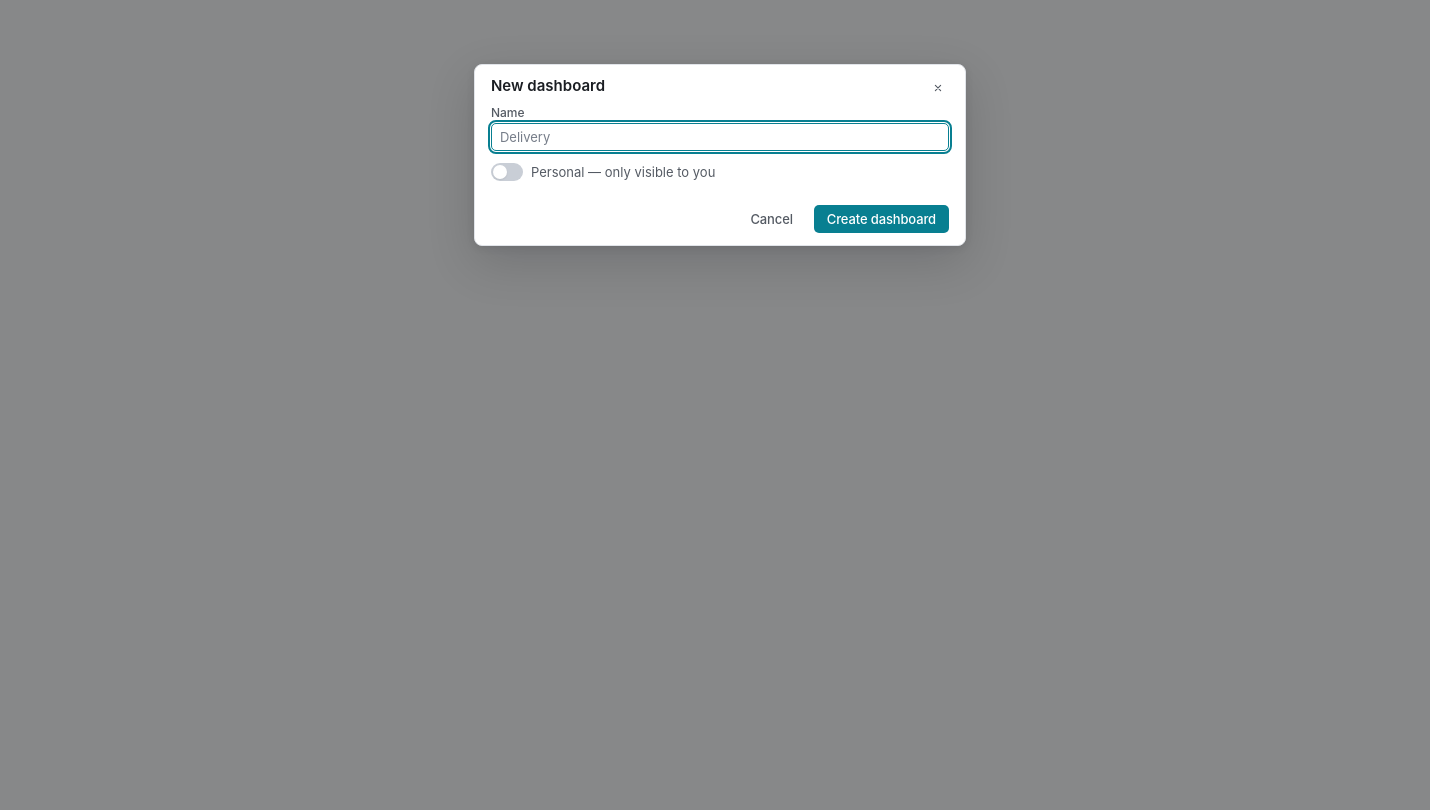
Scenario: discarding a new dashboard › asks when only the personal switch was moved
Click the switch at (507, 172), box [491,163,523,181]
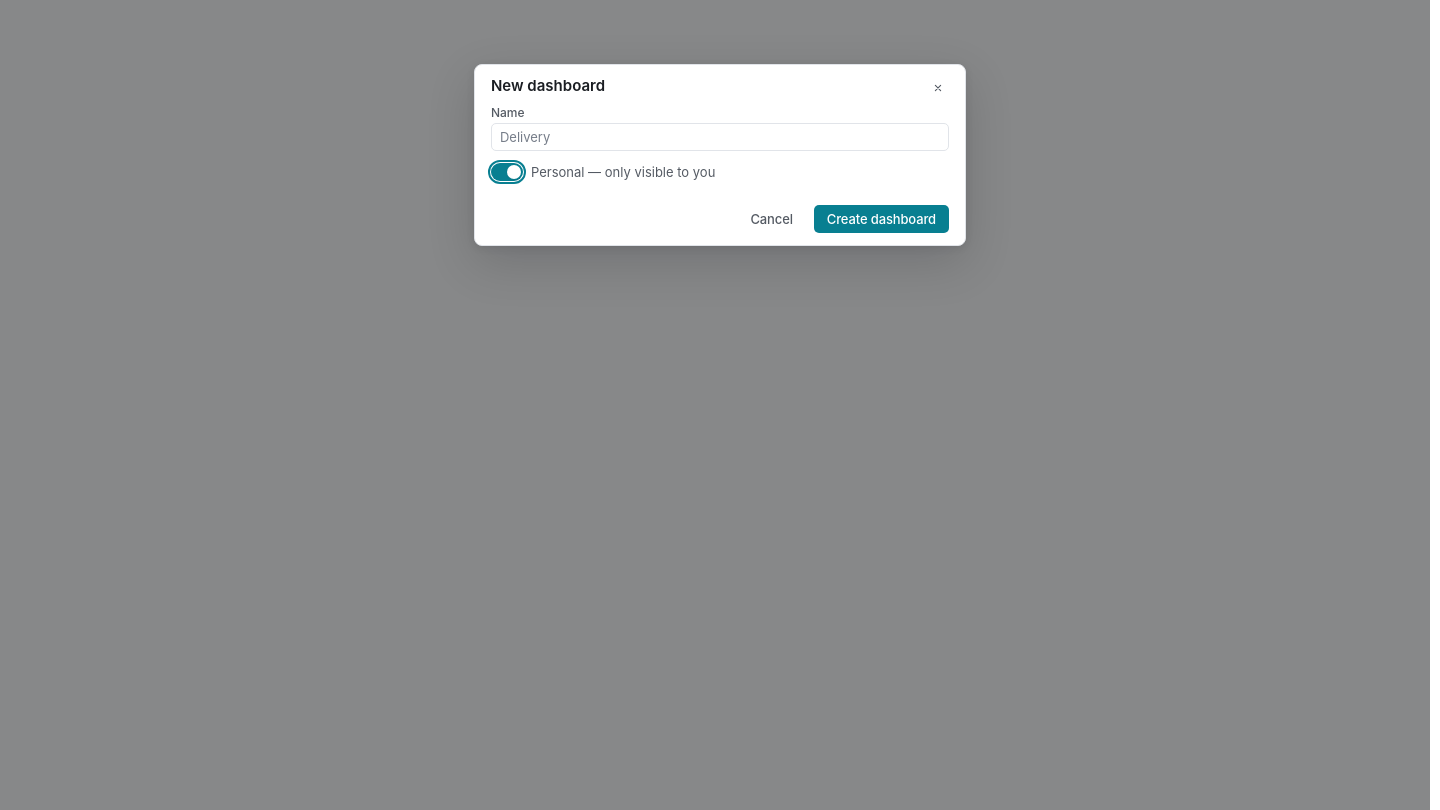
Press Escape
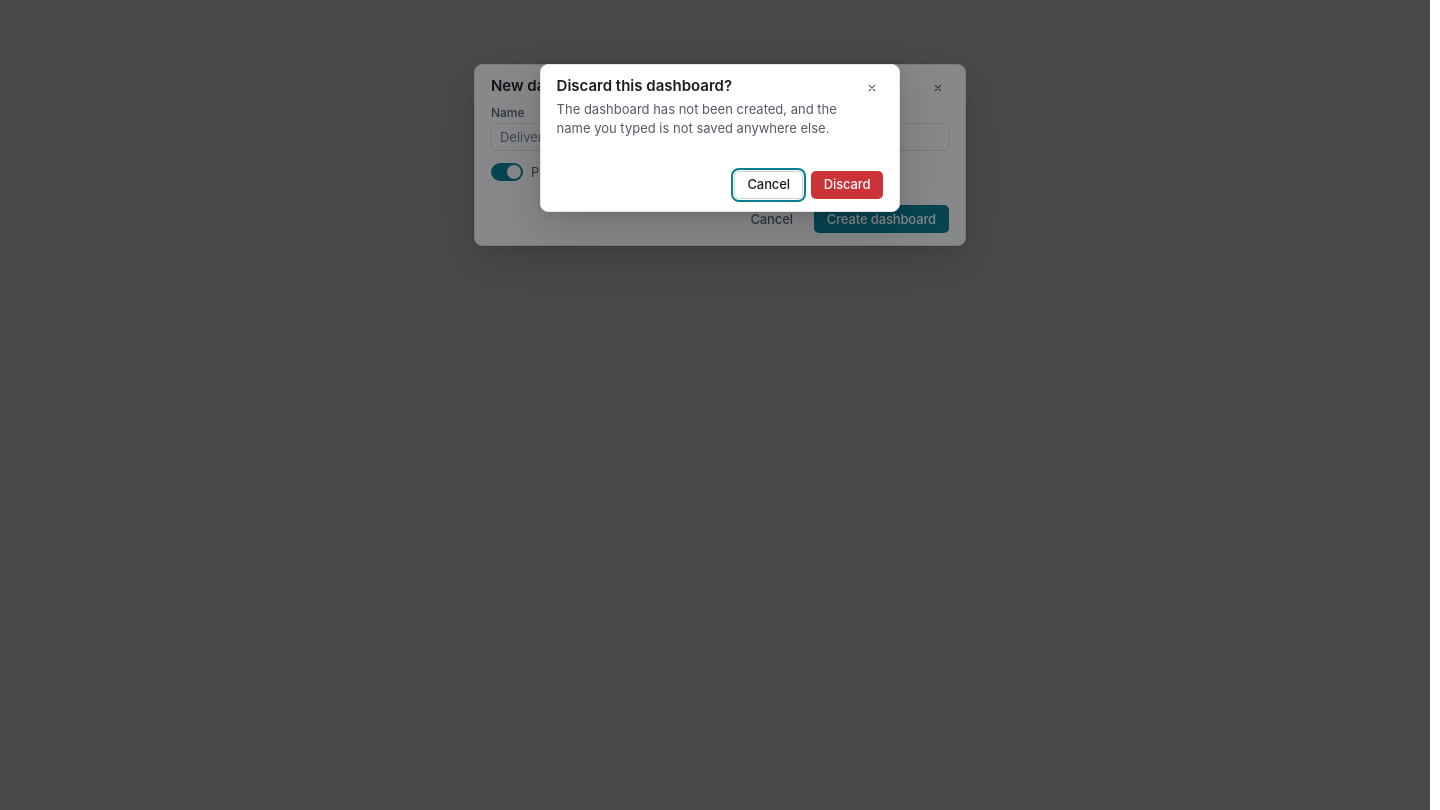
Now the dialog "Discard this dashboard?" is shown, box [540,64,900,212]
